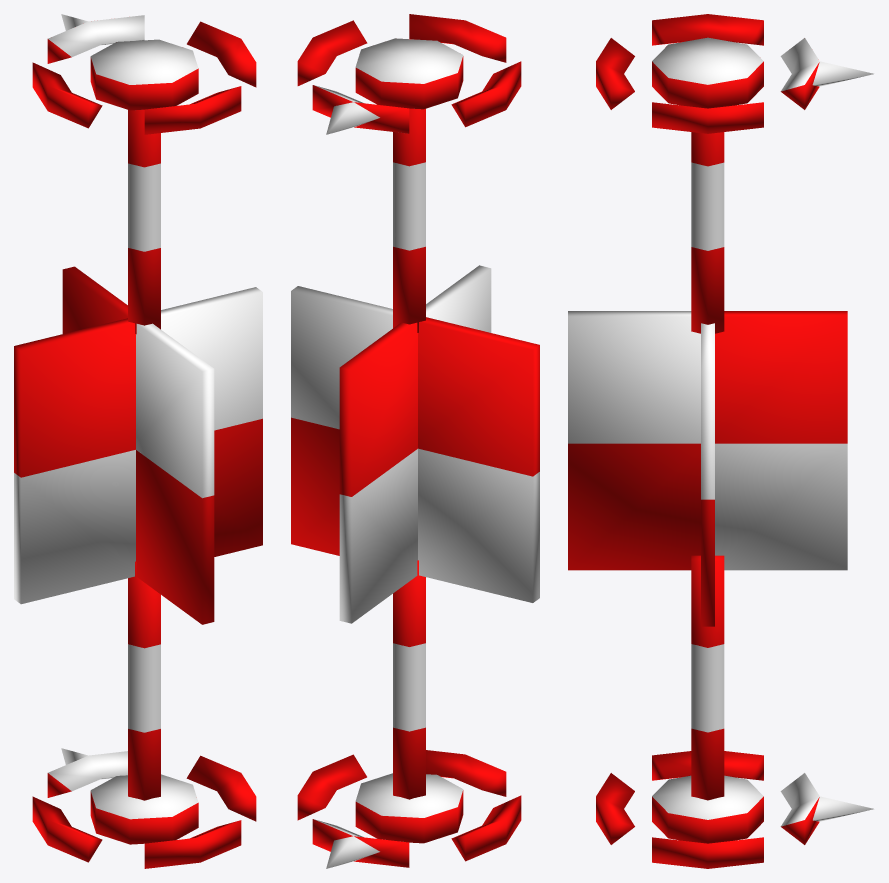
The model's file is INVISIBLE_ZCVOBSPOT.glb.
3 views of the same model, side by side, from view 1: azimuth 30°, elevation 25°; view 2: azimuth 150°, elevation 25°; view 3: azimuth 270°, elevation 25° (orthographic).
Visible parts, largest first — view 1: Mesh; view 2: Mesh; view 3: Mesh.
Boxes of the visible parts, x1,y1,x2,y2 form: Mesh: [14, 14, 262, 868]; Mesh: [291, 14, 539, 868]; Mesh: [568, 14, 873, 868].
Size of the model in its own units: 1 by 3.05 by 1.1.
